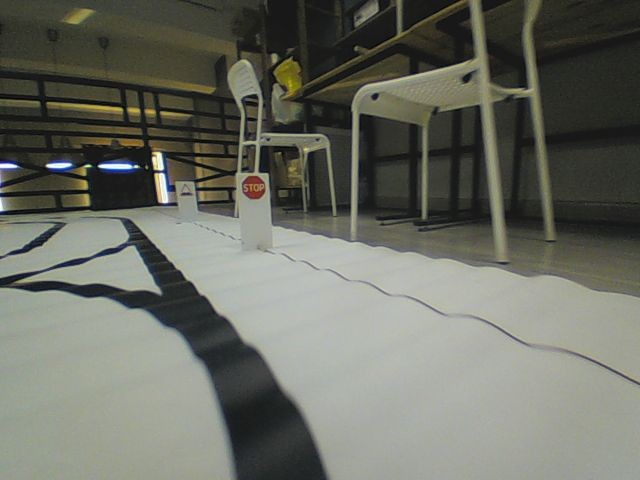Nerov: (179, 182, 193, 197)
Stop: (240, 174, 266, 199)
